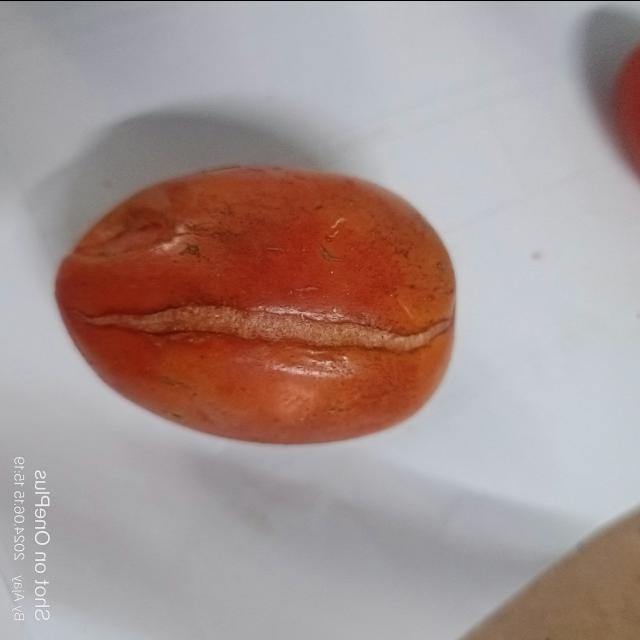tomato_cracking: (77, 298, 459, 360)
